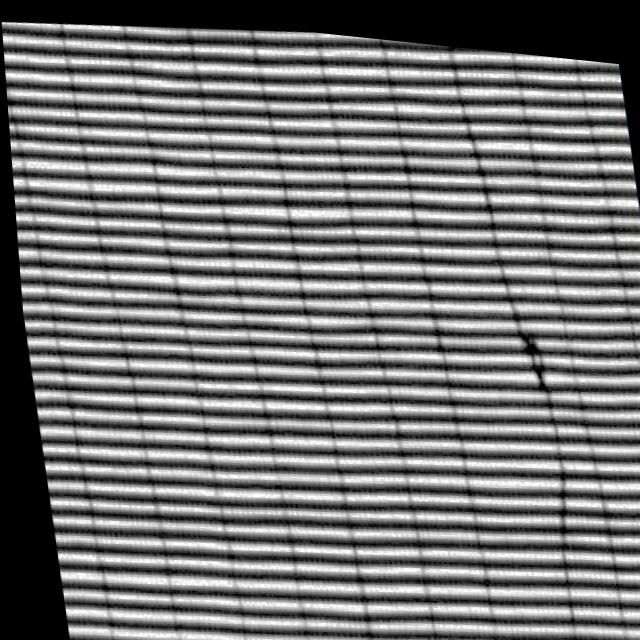Stitch: (476, 227, 598, 522)
